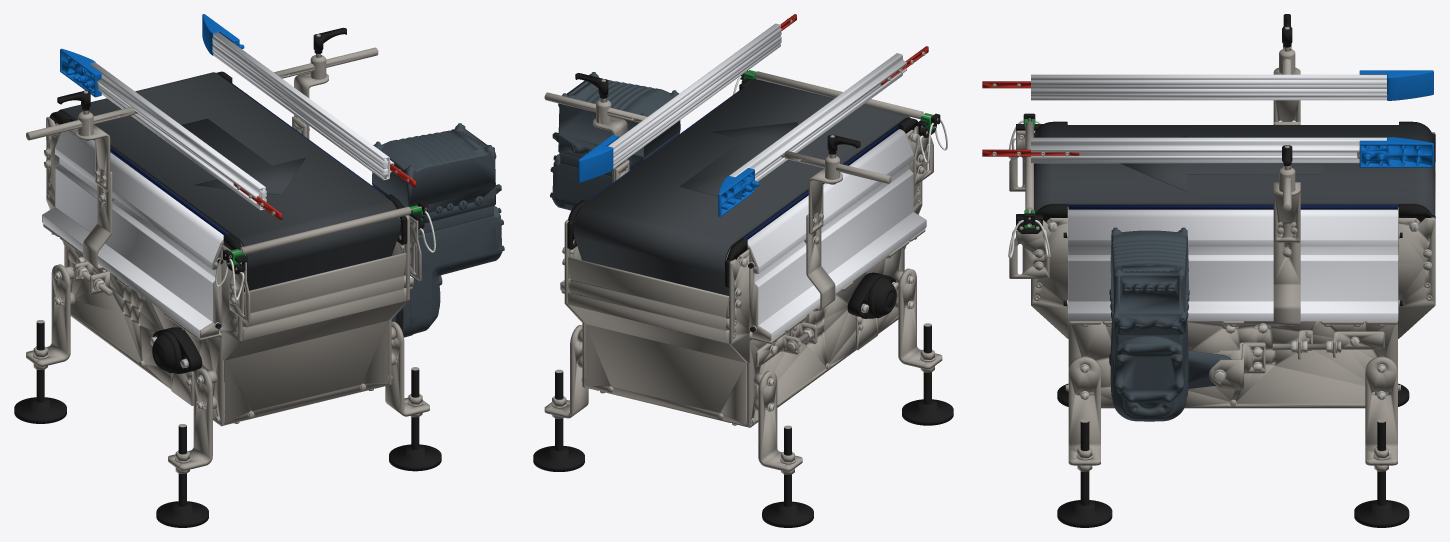
The picture shows the model from 3 angles, left to right: view 1: azimuth 30°, elevation 25°; view 2: azimuth 150°, elevation 25°; view 3: azimuth 270°, elevation 25°; orthographic projection. The views are drawn at different scales.
Visible parts, largest first — view 1: INOX, RETE_STD, ALU6061, MOTORE, PL_NERO, PL_BLU, PL_NAVY, GOMMA, INOX_VITE; view 2: INOX, RETE_STD, ALU6061, PL_NERO, MOTORE, PL_BLU, PL_NAVY, INOX_VITE, GOMMA; view 3: ALU6061, INOX, RETE_STD, MOTORE, PL_NERO, PL_BLU, INOX_VITE, PL_NAVY, PL_ROSSO.
Part boxes in pixels (bbox=[...]): INOX: bbox=[26, 34, 429, 473]; RETE_STD: bbox=[58, 72, 400, 381]; ALU6061: bbox=[42, 32, 413, 338]; MOTORE: bbox=[372, 123, 504, 337]; PL_NERO: bbox=[14, 27, 441, 527]; PL_BLU: bbox=[60, 14, 244, 97]; PL_NAVY: bbox=[70, 80, 385, 234]; GOMMA: bbox=[152, 331, 181, 373]; INOX_VITE: bbox=[46, 133, 424, 422]; INOX: bbox=[544, 18, 942, 474]; RETE_STD: bbox=[573, 79, 910, 363]; ALU6061: bbox=[561, 23, 926, 340]; PL_NERO: bbox=[533, 71, 953, 527]; MOTORE: bbox=[550, 72, 680, 210]; PL_BLU: bbox=[578, 135, 759, 216]; PL_NAVY: bbox=[588, 87, 898, 239]; INOX_VITE: bbox=[564, 79, 936, 424]; GOMMA: bbox=[867, 277, 896, 317]; ALU6061: bbox=[1031, 74, 1397, 321]; INOX: bbox=[992, 27, 1435, 471]; RETE_STD: bbox=[1034, 125, 1434, 215]; MOTORE: bbox=[1109, 227, 1231, 421]; PL_NERO: bbox=[1016, 14, 1435, 527]; PL_BLU: bbox=[1359, 70, 1433, 167]; INOX_VITE: bbox=[1018, 135, 1431, 404]; PL_NAVY: bbox=[1068, 205, 1397, 209]; PL_ROSSO: bbox=[982, 81, 1079, 156].
Bounding box in the file's own units: 0.884 × 0.7567 × 0.84.
